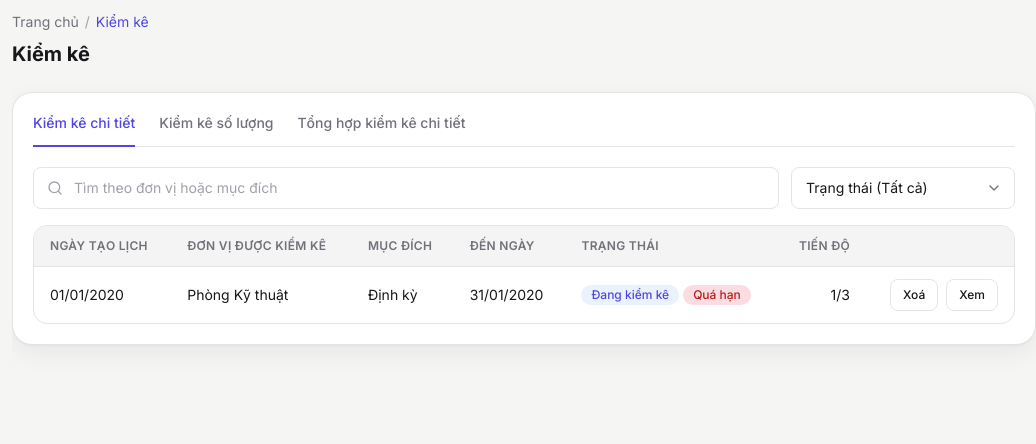
TP Kế toán: Dọn thùng rác → hiện đợt bị giữ lại kèm lý do
This screenshot has width=1036, height=444.
Expected: the text "Phòng Kỹ thuật" is shown, [171,266,352,323]
Select "Đã xóa" in the dropdown showing "Trạng thái (Tất cả)" at (903, 188), box [791,167,1015,209]
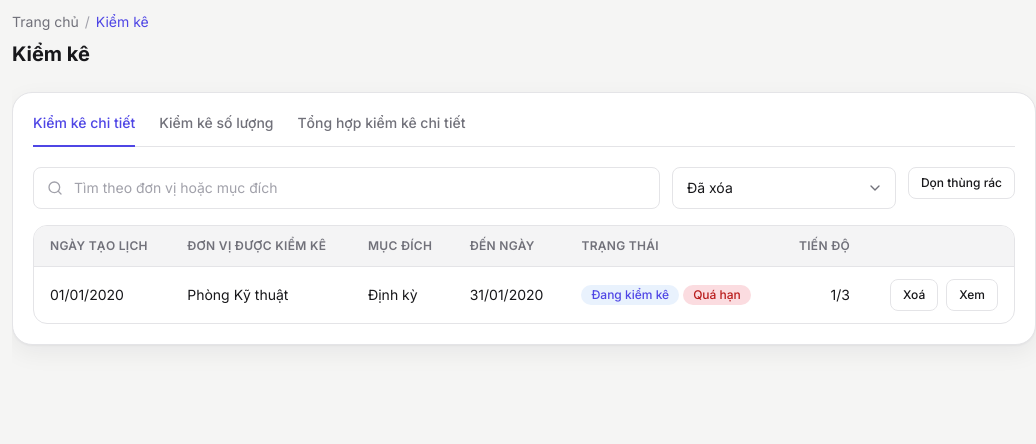
Click the button "Dọn thùng rác".
click(962, 183)  # box [908,167,1015,199]
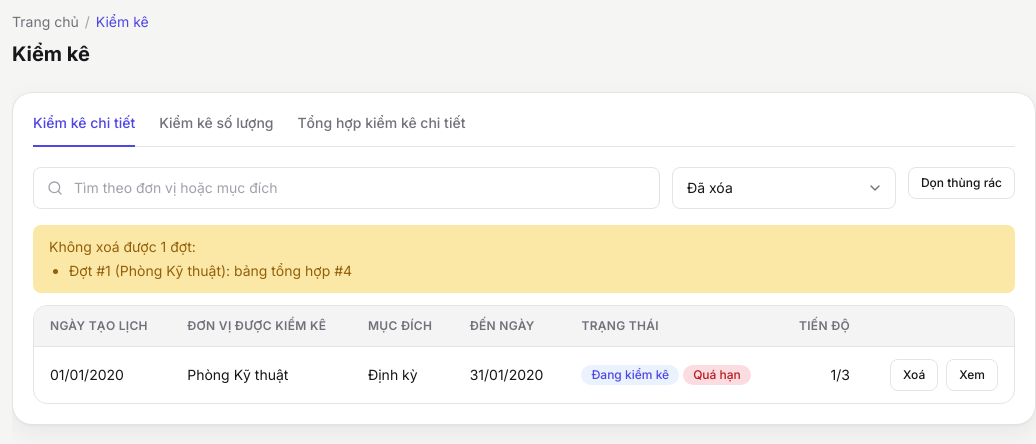
Now the list item "Đợt #1 (Phòng Kỹ thuật): bảng tổng hợp #4" is shown, box [69,262,352,279]
